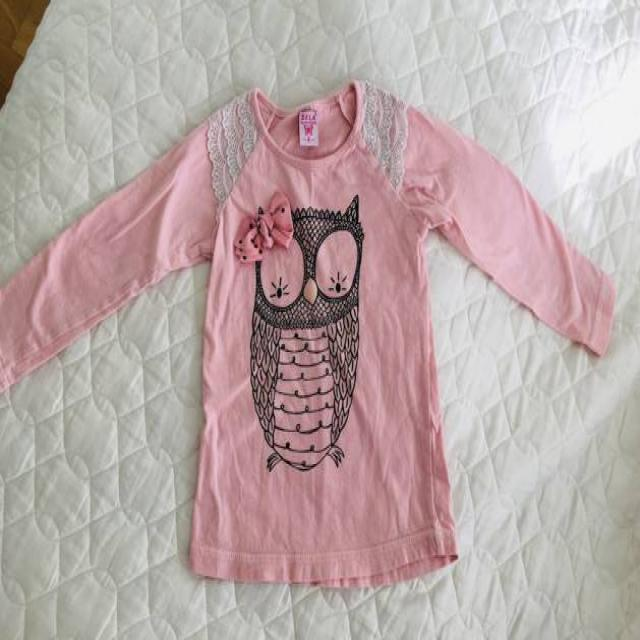Clothes -Biodegradable-: (0, 78, 618, 586)
